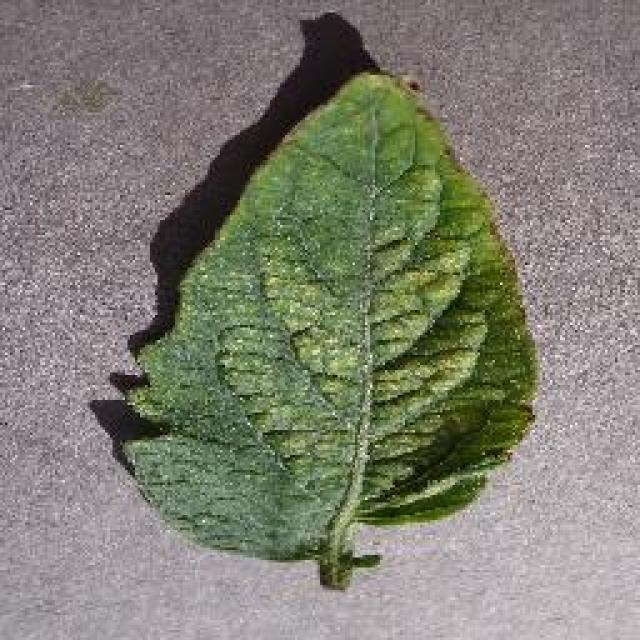Tomato___Spider_mites Two-spotted_spider_mite: (125, 72, 532, 588)
